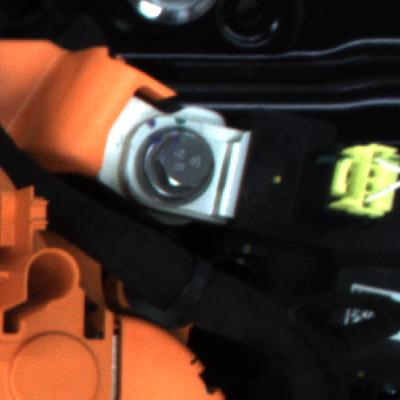nut_b: (133, 121, 222, 210)
